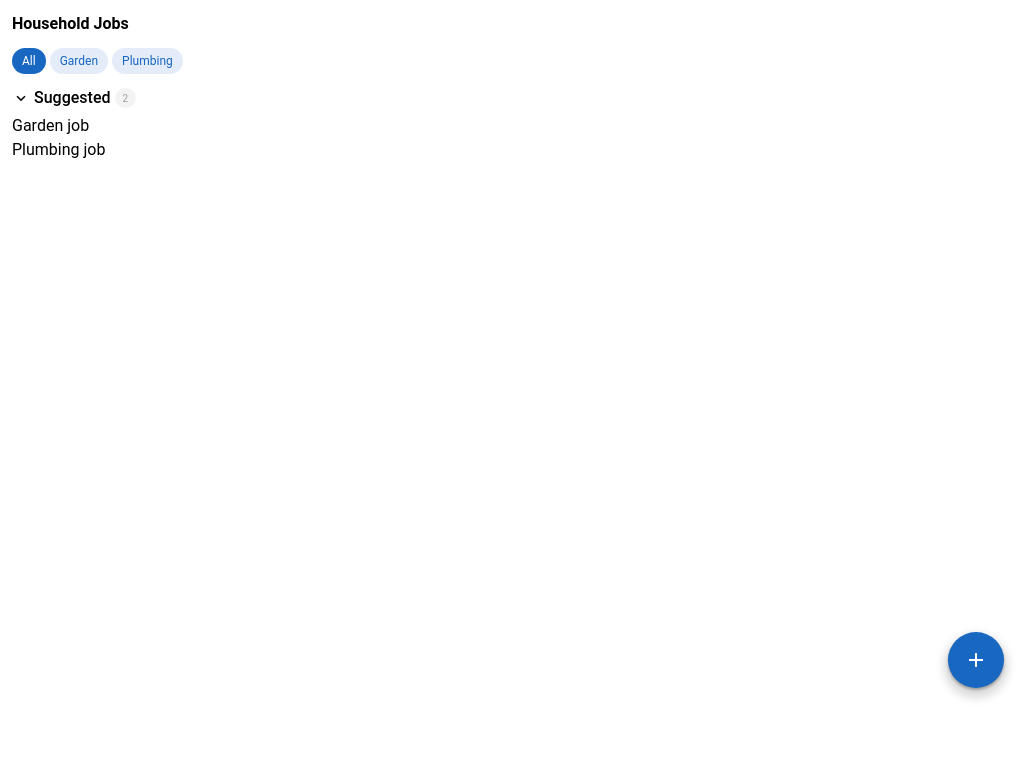
Test: JobsView › category filter › filters jobs to selected category when chip clicked
Step 1. Click the element showing "Garden" → (79, 61), box [50,48,108,74]
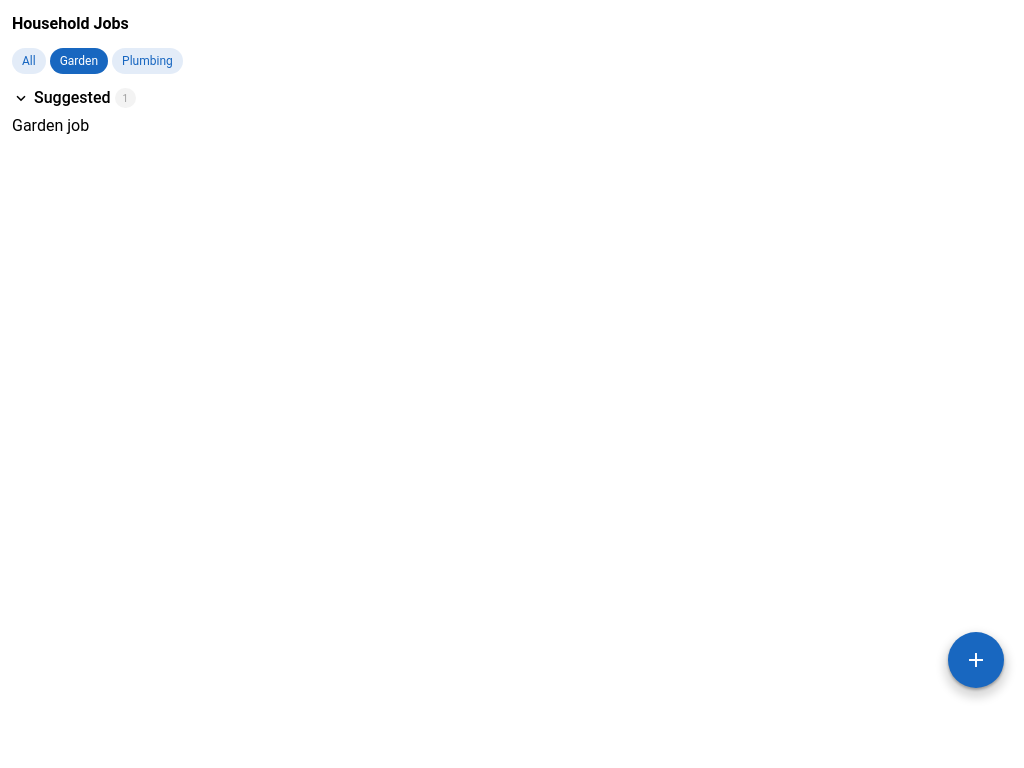
Expected: the number of elements with class "job-card-stub" is 1, [12,116,89,135]
